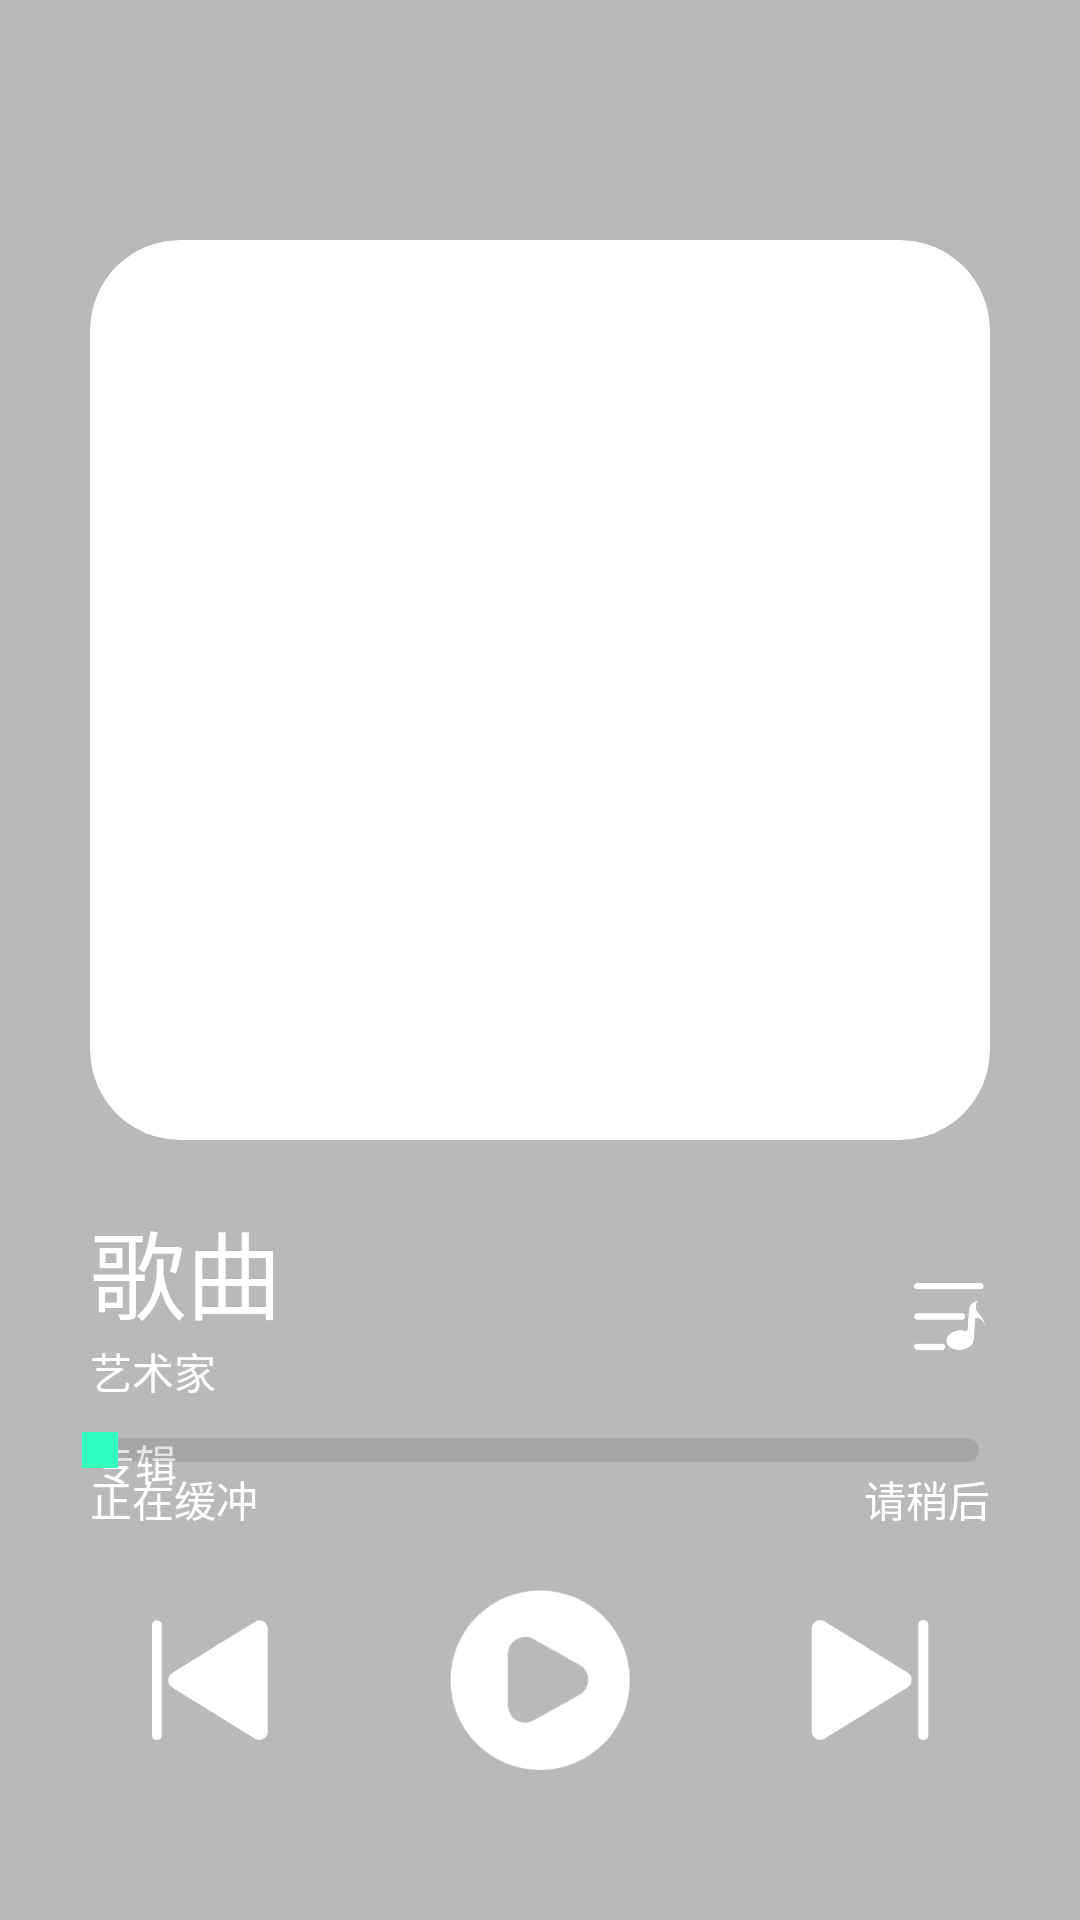

Where to tap for icons on this 1080px×1920px app screen, as [x,y]:
music player last: [210,1680]
music player next: [870,1680]
music player start: [540,1680]
player list: [949,1316]
